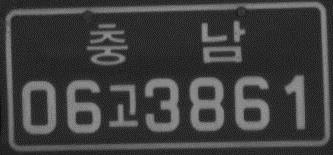0: (20, 78, 59, 138)
1: (282, 70, 309, 132)
3: (141, 74, 180, 135)
6: (230, 71, 272, 134), (62, 77, 104, 138)
8: (186, 74, 227, 136)
고: (102, 80, 140, 132)
충남_D: (82, 18, 247, 68)
